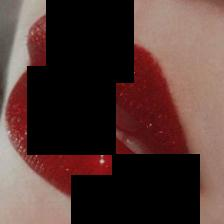red: (7, 7, 197, 205)
